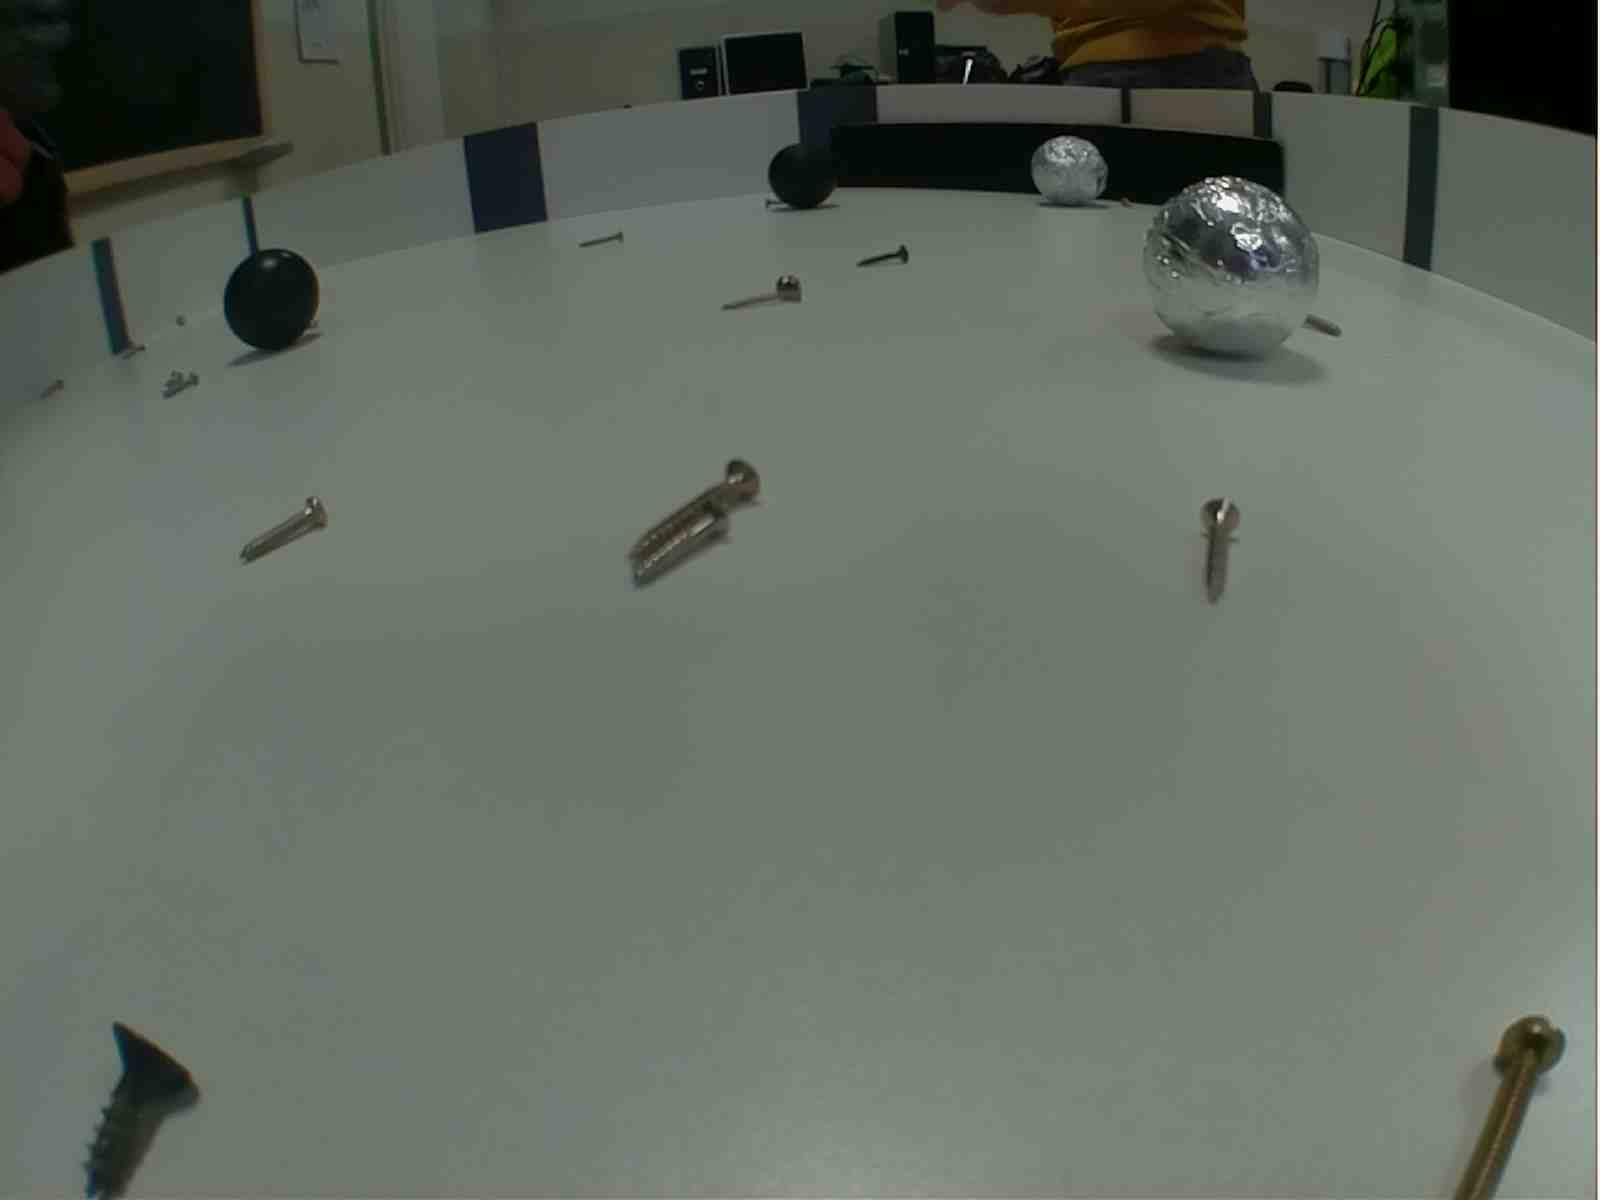bianca: (1143, 171, 1325, 366), (1031, 135, 1109, 209)
nera: (217, 243, 325, 367), (769, 141, 837, 214)
